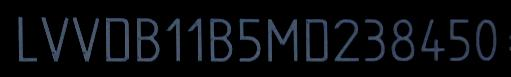letter: (265, 16, 301, 67), (416, 14, 448, 67), (38, 14, 70, 65), (71, 11, 100, 64), (302, 15, 331, 68), (12, 11, 40, 64), (361, 14, 389, 67), (207, 15, 235, 68), (102, 13, 131, 64), (132, 14, 161, 65), (388, 15, 417, 66), (332, 18, 362, 65), (446, 15, 472, 66), (473, 15, 500, 64), (235, 16, 262, 63), (184, 14, 205, 67), (163, 12, 183, 65)
